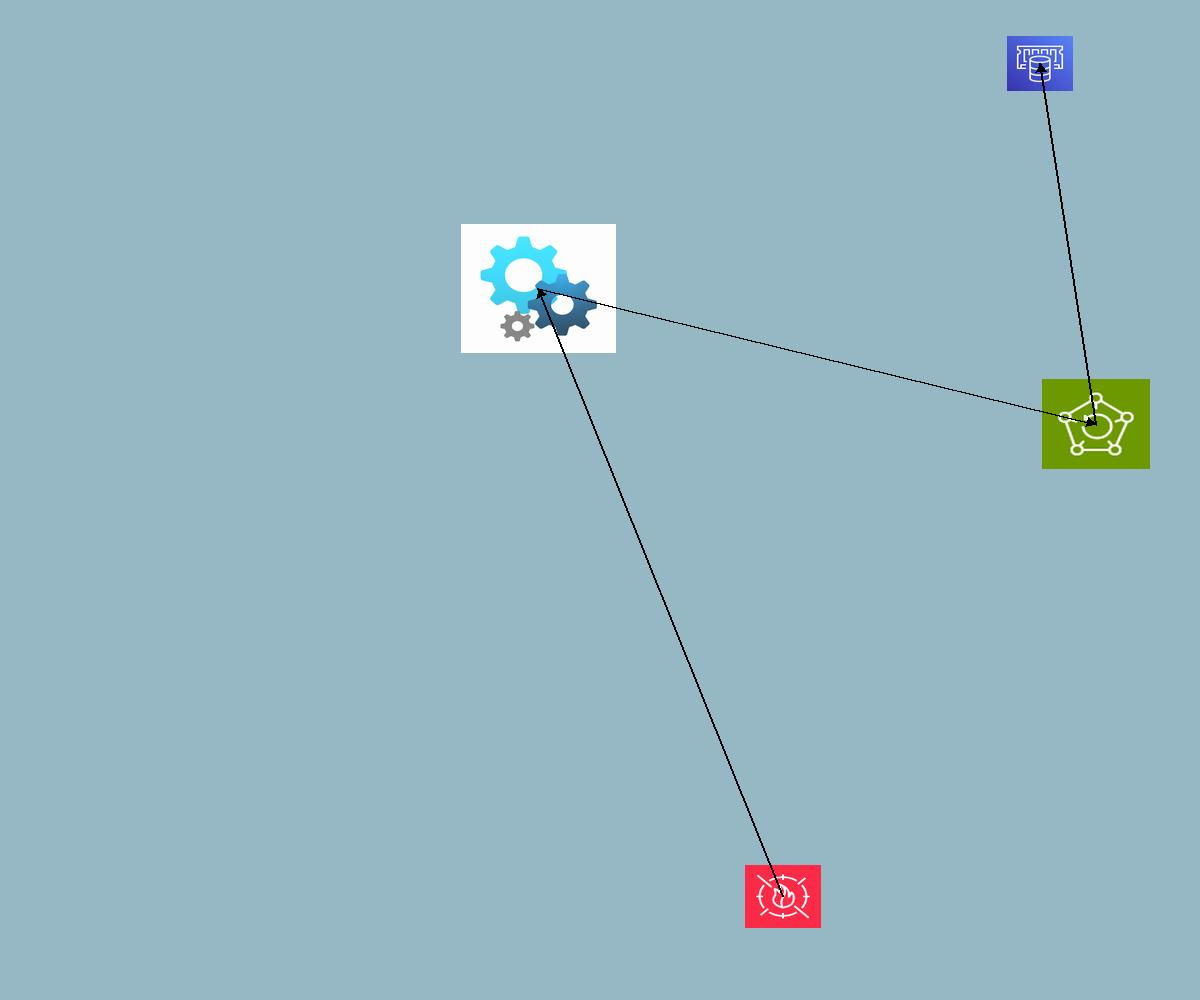AWS-Backup: (1042, 379, 1150, 469)
AWS-ElastiCache: (1007, 36, 1073, 91)
AWS-WAF: (745, 865, 821, 928)
Azure_api: (461, 224, 616, 353)
